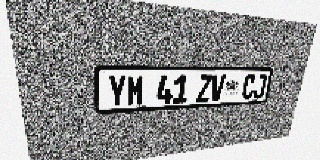1: (172, 75, 189, 104)
4: (156, 75, 174, 105)
C: (241, 74, 256, 99)
J: (252, 74, 267, 99)
M: (127, 75, 144, 106)
V: (210, 75, 226, 101)
Y: (108, 75, 126, 107)
Z: (196, 75, 213, 102)
